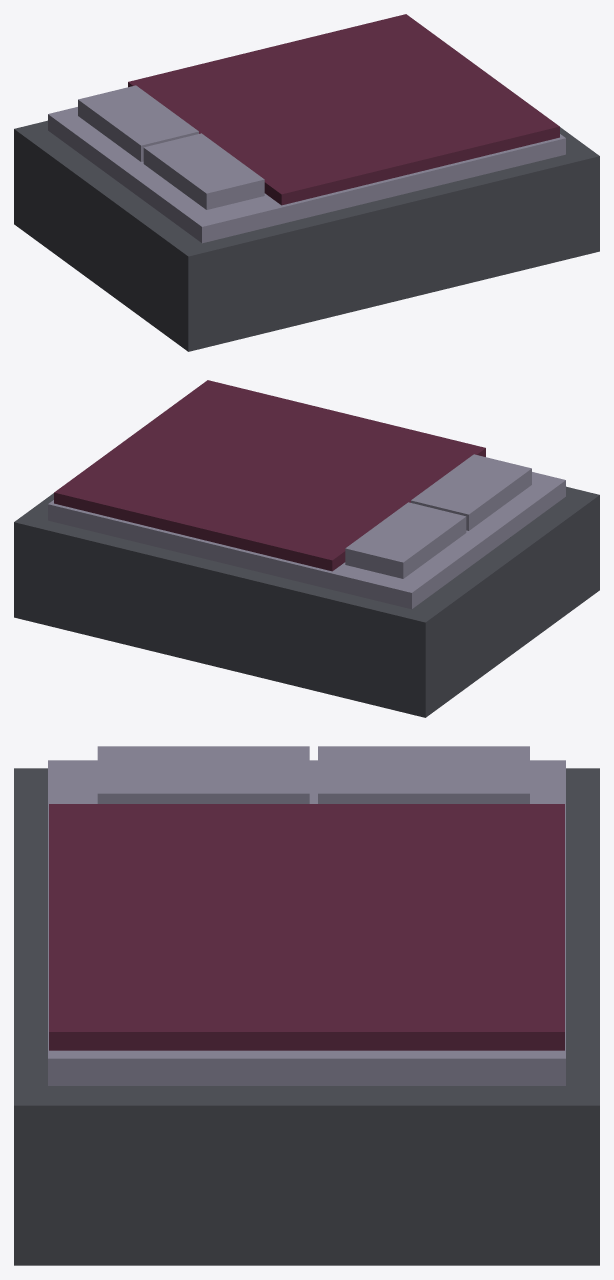
Rendered from cama.fbx.
The picture shows the model from 3 angles, top to bottom: view 1: azimuth 30°, elevation 25°; view 2: azimuth 150°, elevation 25°; view 3: azimuth 270°, elevation 25°; orthographic projection. The views are drawn at different scales.
Parts seen in each view (by area): view 1: Cube.004, Cube.001, Cube.003; view 2: Cube.004, Cube.001, Cube.003; view 3: Cube.001, Cube.004, Cube.003.
Boxes of the visible parts, bbox=[...] form: Cube.004: bbox=[14, 120, 599, 351]; Cube.001: bbox=[128, 14, 559, 205]; Cube.003: bbox=[48, 85, 565, 243]; Cube.004: bbox=[14, 486, 599, 717]; Cube.001: bbox=[54, 380, 485, 571]; Cube.003: bbox=[48, 454, 565, 609]; Cube.001: bbox=[49, 804, 564, 1050]; Cube.004: bbox=[14, 768, 599, 1265]; Cube.003: bbox=[48, 746, 565, 1085].
Size of the model in its own units: 600 by 181 by 441.
